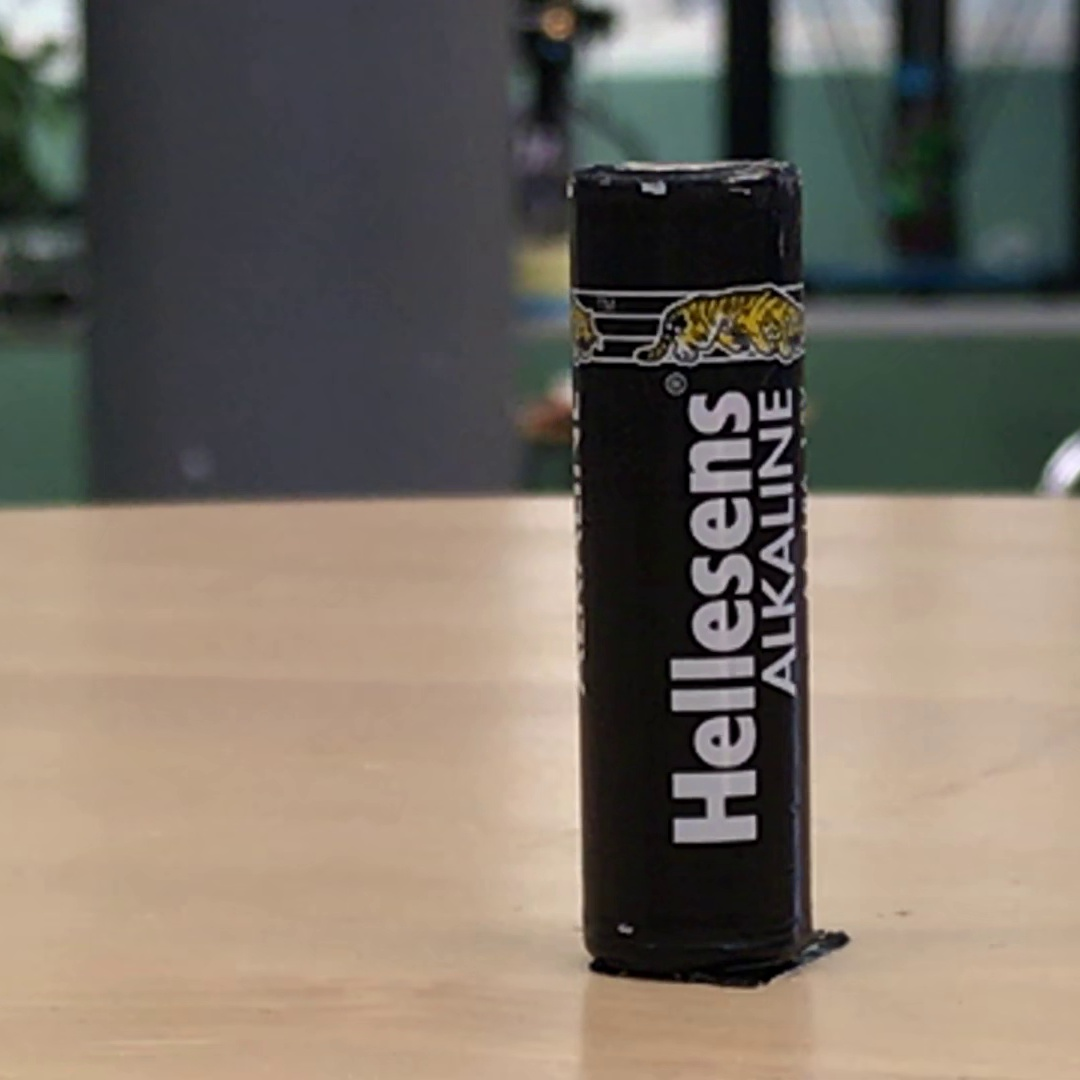keyword: (752, 582, 807, 706)
